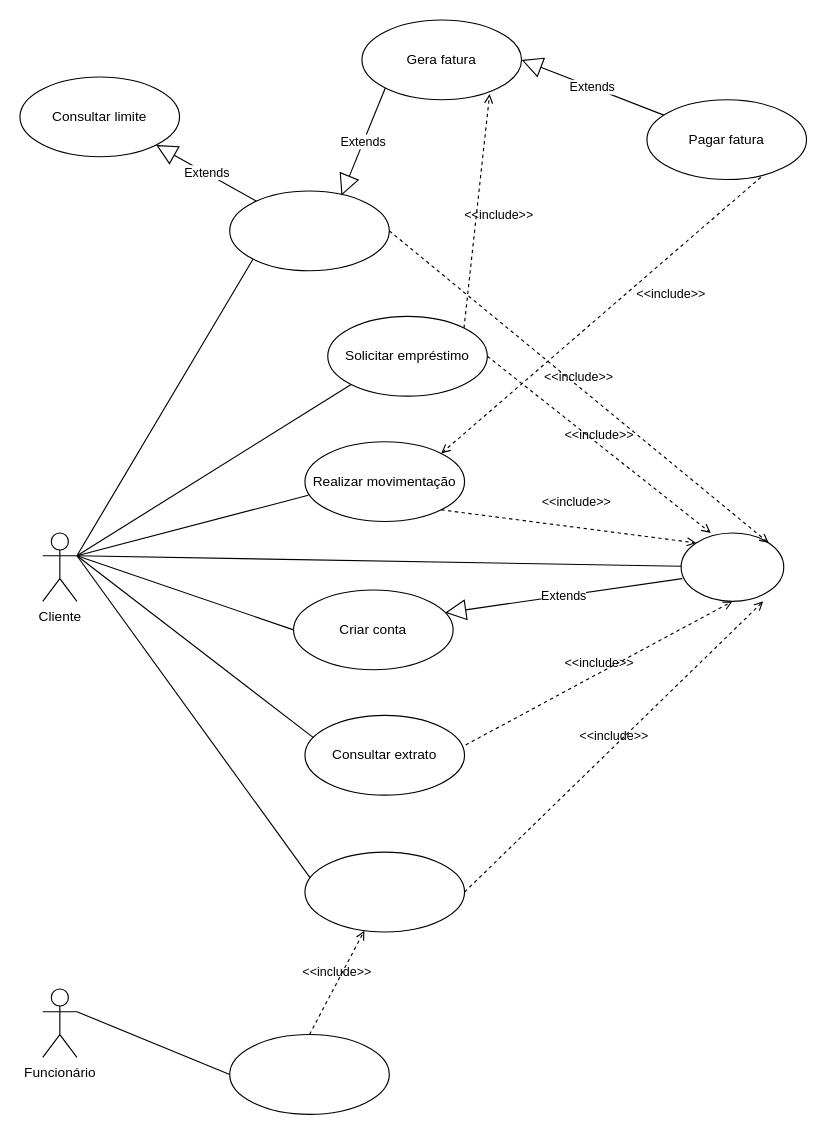
This 827x1134 diagram has some shape labels left out. Here are the shapes that lost their labels. From the top down, the centre of each, then its label:
At (x=309, y=230): "Gerenciar Cartão".
At (x=732, y=566): "Realiza login".
At (x=384, y=891): "Solicitar atendimento".
At (x=309, y=1073): "Responde atendimento".
